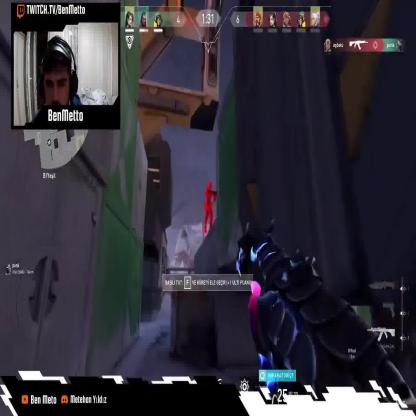enemy: (203, 180, 218, 233)
enemy_head: (208, 180, 212, 189)
